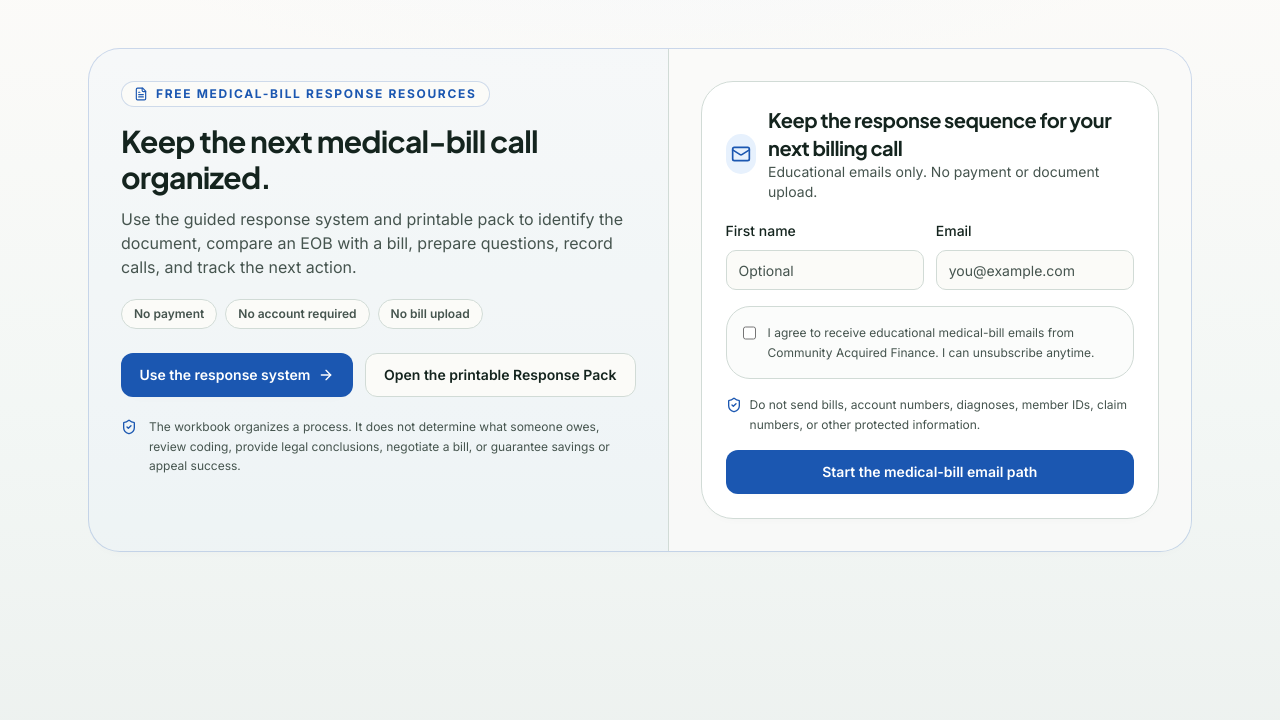
MedicalBillProductPathway › preserves the consent-gated response sequence on the flagship hub
Expected: the heading "Keep the next medical-bill call organized." is shown, [121,122,538,196]
Step 1. Type "reader@example.com" into the field labelled "Email" → {"x": 1035, "y": 270}, box [936,250,1134,290]
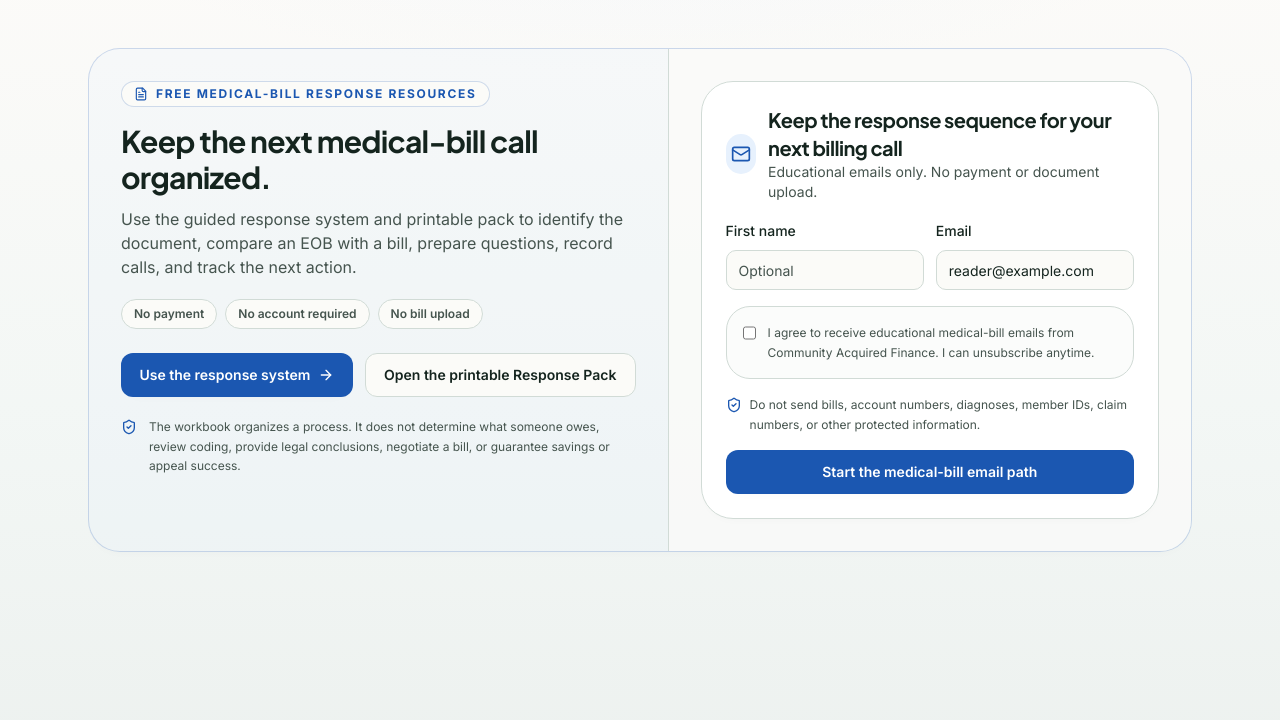
Step 2. Click the checkbox → {"x": 749, "y": 333}, box [742,325,756,341]
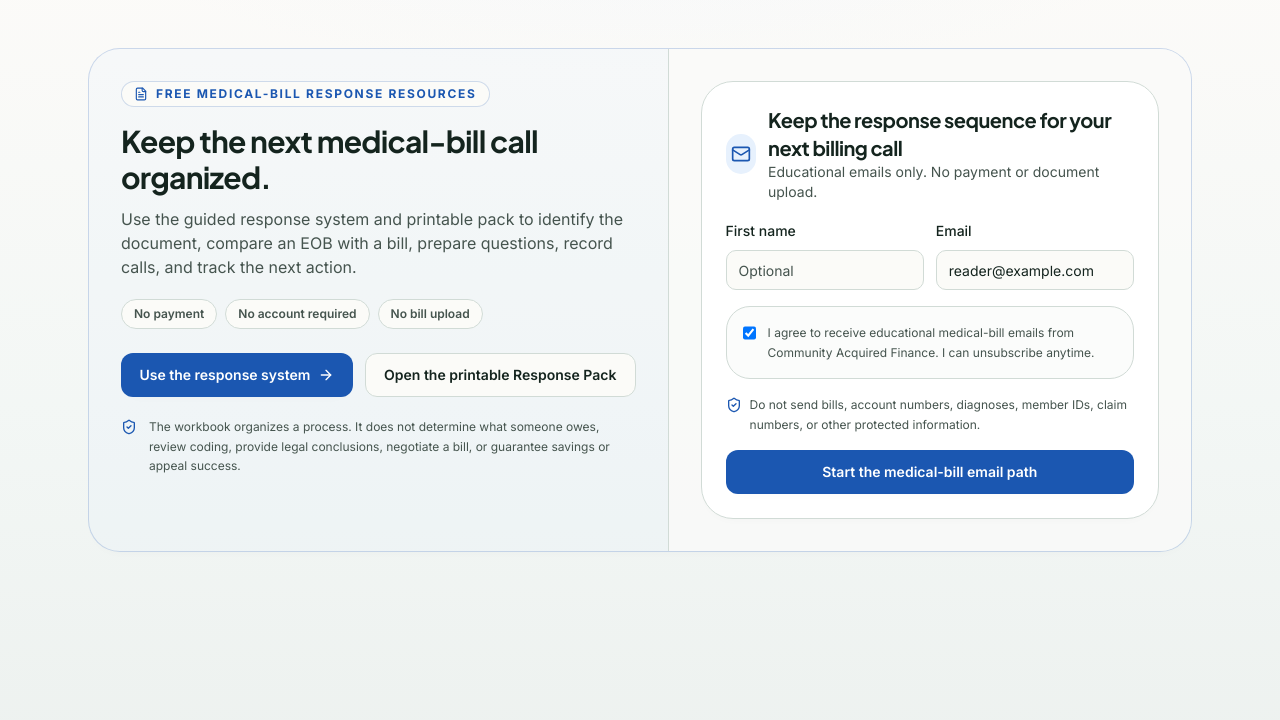
Step 3. Click the button "Start the medical-bill email path" → {"x": 930, "y": 472}, box [726,450,1134,494]
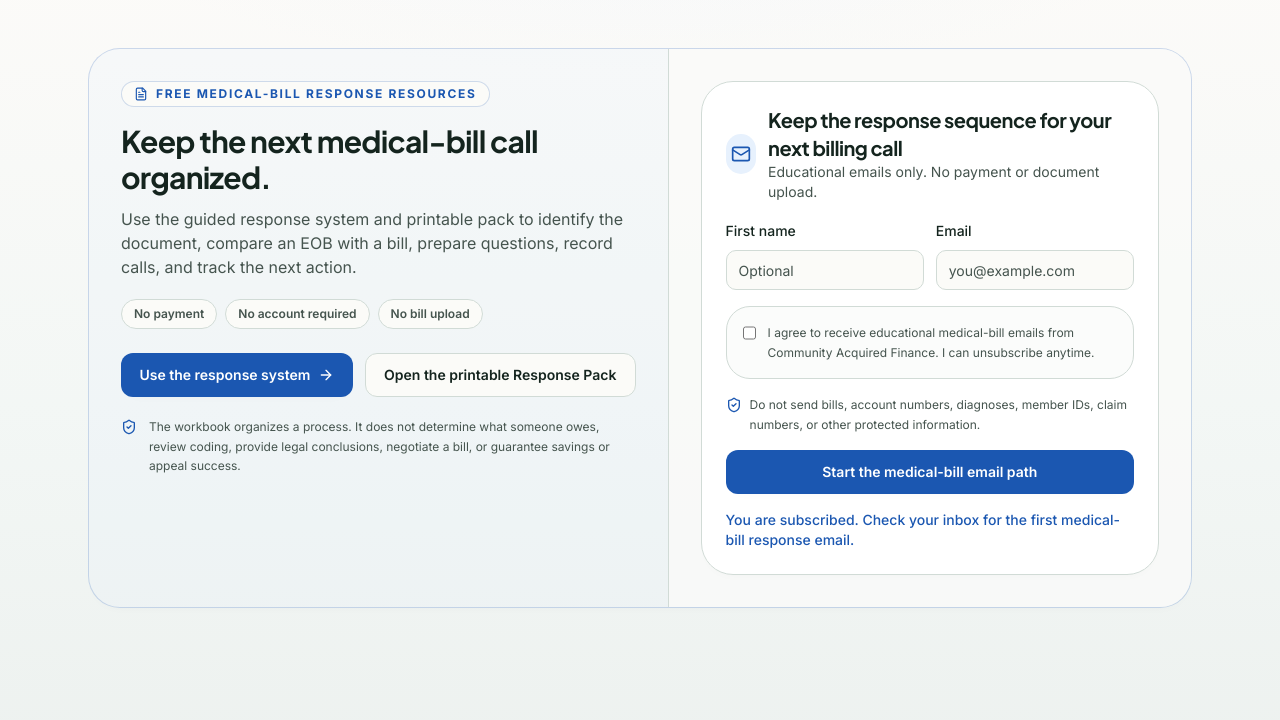
Now the text "Check your inbox for the first medical-bill response email" is shown, box [726,511,1120,548]
